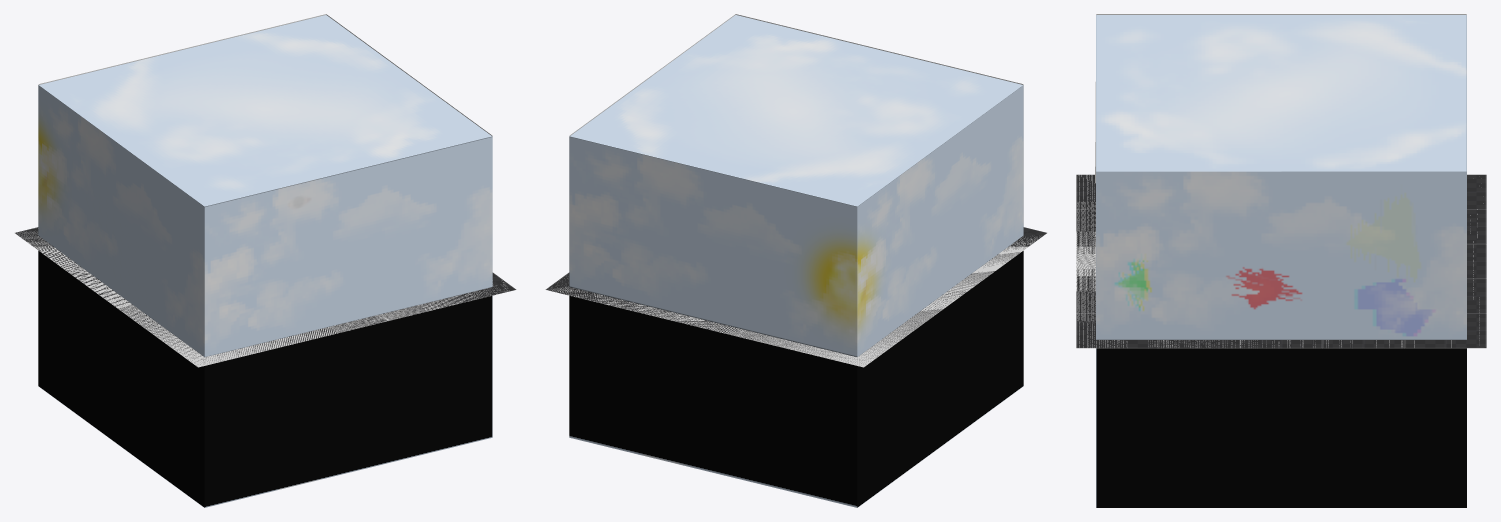
Rendered from TST_MAP0.glb.
3 views of the same model, side by side, from view 1: azimuth 30°, elevation 25°; view 2: azimuth 150°, elevation 25°; view 3: azimuth 270°, elevation 25° (orthographic). The views are drawn at different scales.
Visible parts, largest first — view 1: SkyBox, Coll8, Plane; view 2: SkyBox, Coll8, Plane; view 3: SkyBox, Plane, Coll8.
Part boxes in pixels (x1,y1,x2,y2): SkyBox: (38, 15, 492, 507); Coll8: (15, 14, 509, 367); Plane: (15, 227, 516, 365); SkyBox: (569, 15, 1023, 507); Coll8: (546, 14, 1040, 367); Plane: (545, 227, 1046, 363); SkyBox: (1096, 15, 1466, 507); Plane: (1076, 174, 1486, 348); Coll8: (1076, 14, 1483, 348).
Size of the model in its own units: 22 by 19.94 by 22.
Materials: 6 (5 with a texture image).
